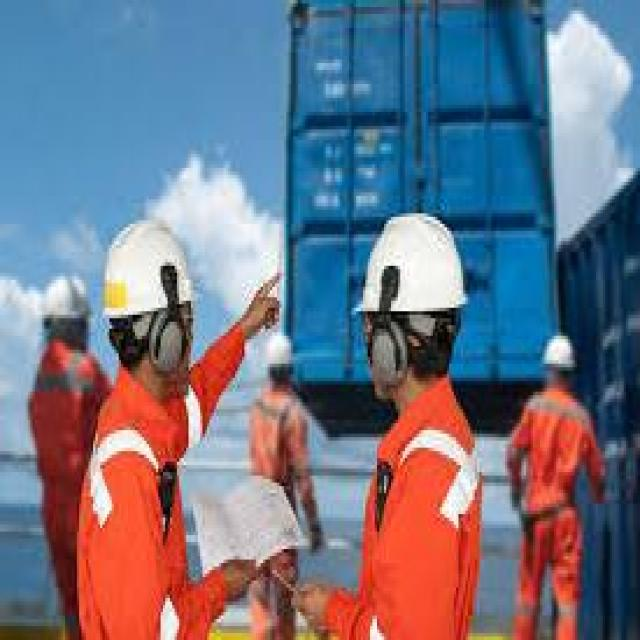Reflective-Jacket: (75, 336, 246, 563), (354, 388, 484, 637), (21, 336, 102, 507), (514, 388, 594, 549), (244, 381, 312, 493)
Safety-Helmet: (88, 206, 205, 343), (349, 206, 473, 332), (30, 266, 96, 346), (256, 325, 305, 388), (538, 325, 582, 381)
